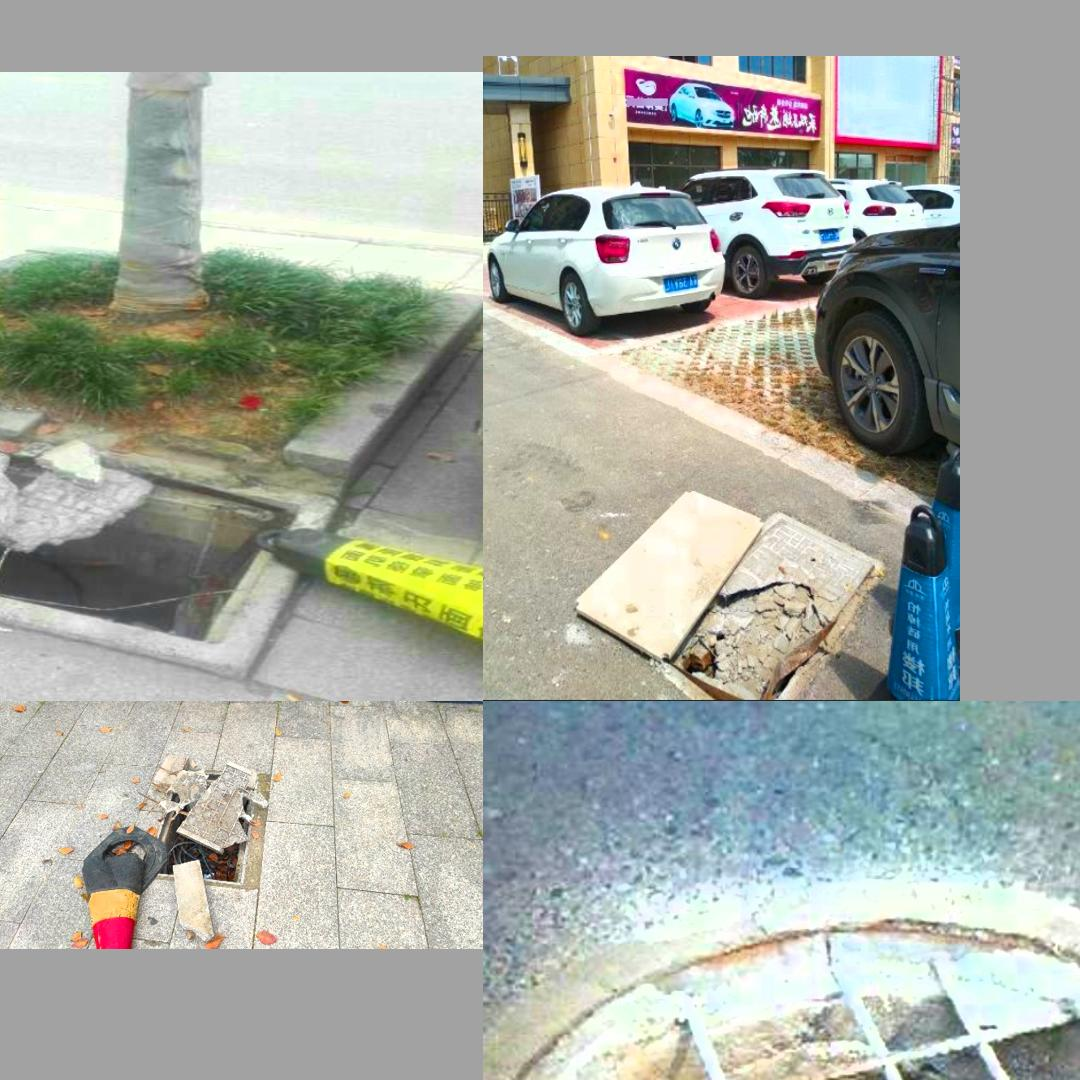broke: (488, 837, 1080, 1080), (0, 430, 296, 645), (637, 550, 880, 690), (150, 752, 256, 885)
